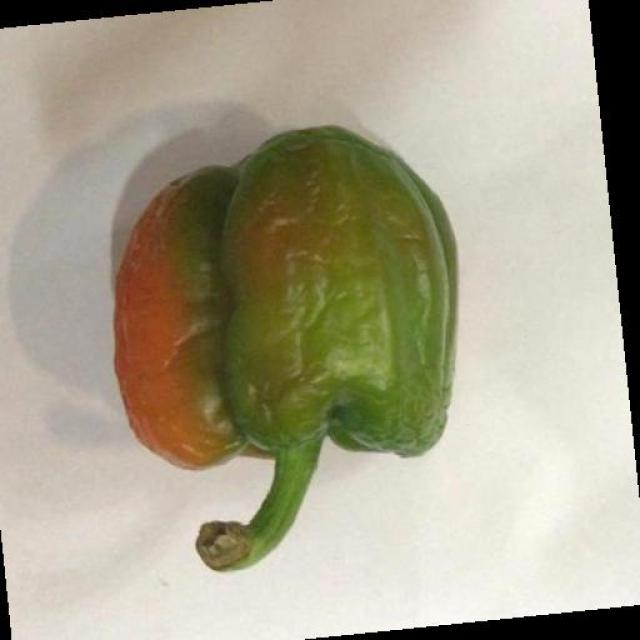Stale_Capsicum: (108, 141, 442, 531)
